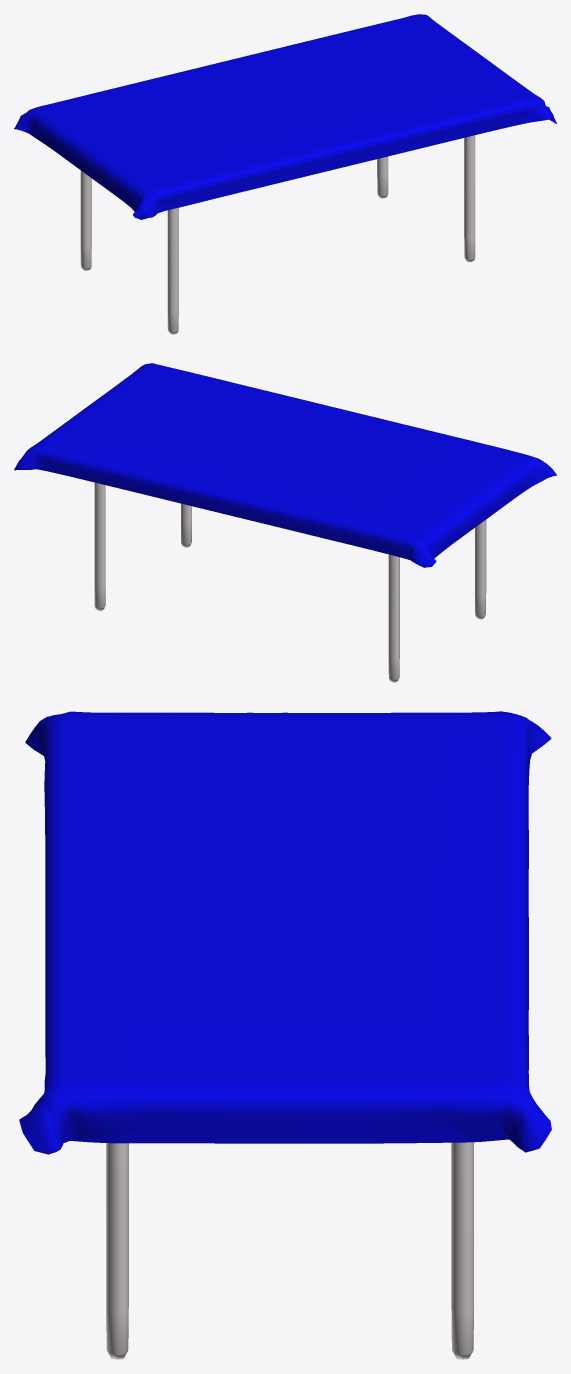
The model's file is TABLE.fbx.
The picture shows the model from 3 angles, top to bottom: view 1: azimuth 30°, elevation 25°; view 2: azimuth 150°, elevation 25°; view 3: azimuth 270°, elevation 25°; orthographic projection. The views are drawn at different scales.
Parts seen in each view (by area): view 1: Plane; view 2: Plane; view 3: Plane.
Part boxes in pixels (<box>): Plane: <box>14,14,556,334</box>; Plane: <box>14,363,556,682</box>; Plane: <box>19,711,551,1359</box>.
Bounding box in the file's own units: 734 × 268 × 404.
